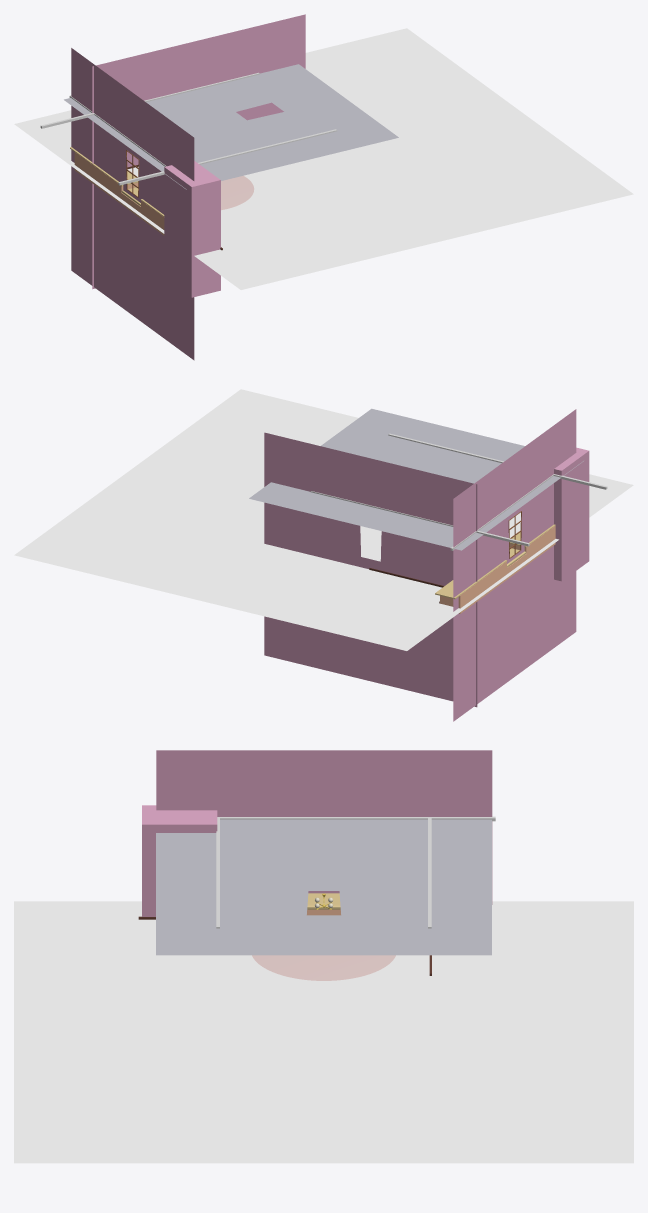
Rendered from roomBS.fbx.
3 renders of one model, top to bottom at view 1: azimuth 30°, elevation 25°; view 2: azimuth 150°, elevation 25°; view 3: azimuth 270°, elevation 25°, orthographic. The views are drawn at different scales.
Visible parts, largest first — view 1: Plane, Plane.001, Plane.003, Plane.004, Cube.027, Cube.001, Cube.025, Cylinder; view 2: Plane, Plane.004, Plane.001, Plane.003, Cube.027, Cube.001, Cube.025, Cube.003; view 3: Plane, Plane.003, Plane.001, Cube.027, Cylinder, Cube.025, Cube.023.
Part boxes in pixels (x1=…): Plane: x1=14, y1=28, x2=633, y2=289; Plane.001: x1=71, y1=48, x2=194, y2=360; Plane.003: x1=64, y1=64, x2=398, y2=189; Plane.004: x1=92, y1=14, x2=305, y2=289; Cube.027: x1=164, y1=161, x2=220, y2=297; Cube.001: x1=74, y1=152, x2=164, y2=235; Cube.025: x1=40, y1=72, x2=337, y2=185; Cylinder: x1=221, y1=175, x2=254, y2=210; Plane: x1=14, y1=389, x2=633, y2=650; Plane.004: x1=264, y1=432, x2=477, y2=707; Plane.001: x1=453, y1=409, x2=576, y2=721; Plane.003: x1=249, y1=408, x2=583, y2=550; Cube.027: x1=554, y1=447, x2=589, y2=581; Cube.001: x1=440, y1=526, x2=555, y2=613; Cube.025: x1=310, y1=433, x2=607, y2=546; Cube.003: x1=435, y1=524, x2=555, y2=599; Plane: x1=14, y1=901, x2=633, y2=1163; Plane.003: x1=156, y1=819, x2=491, y2=955; Plane.001: x1=156, y1=750, x2=492, y2=904; Cube.027: x1=142, y1=805, x2=217, y2=916; Cylinder: x1=252, y1=955, x2=395, y2=980; Cube.025: x1=216, y1=818, x2=431, y2=928; Cube.023: x1=217, y1=816, x2=495, y2=821.
Bounding box in the file's own units: 4306 × 2100 × 3843.
